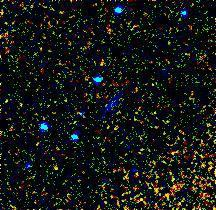star: (43, 155, 73, 185)
